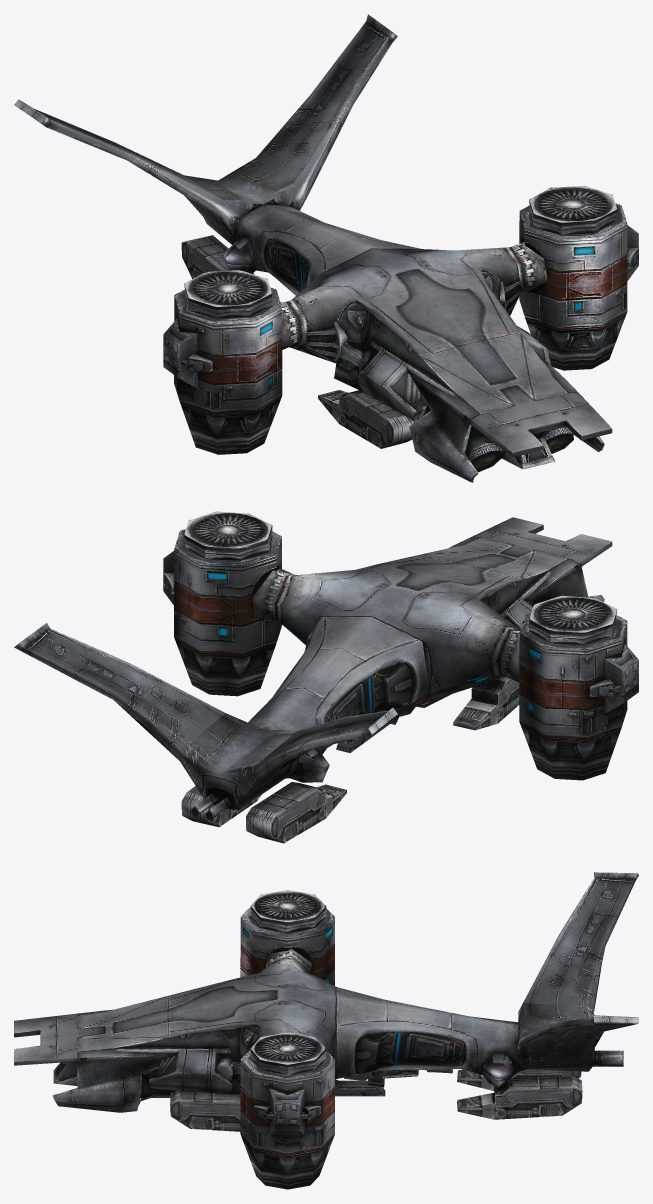
The model's file is Prop_Plane01.glb.
3 renders of one model, top to bottom at view 1: azimuth 30°, elevation 25°; view 2: azimuth 150°, elevation 25°; view 3: azimuth 270°, elevation 25°, orthographic. The views are drawn at different scales.
Visible parts, largest first — view 1: pvp_legionwar_plane01; view 2: pvp_legionwar_plane01; view 3: pvp_legionwar_plane01.
Part boxes in pixels (x1,y1,x2,y2): pvp_legionwar_plane01: (14, 14, 638, 482); pvp_legionwar_plane01: (14, 511, 638, 843); pvp_legionwar_plane01: (14, 872, 638, 1189).
Size of the model in its own units: 31.7 by 12.54 by 44.08.
1 material, 1 textured.
